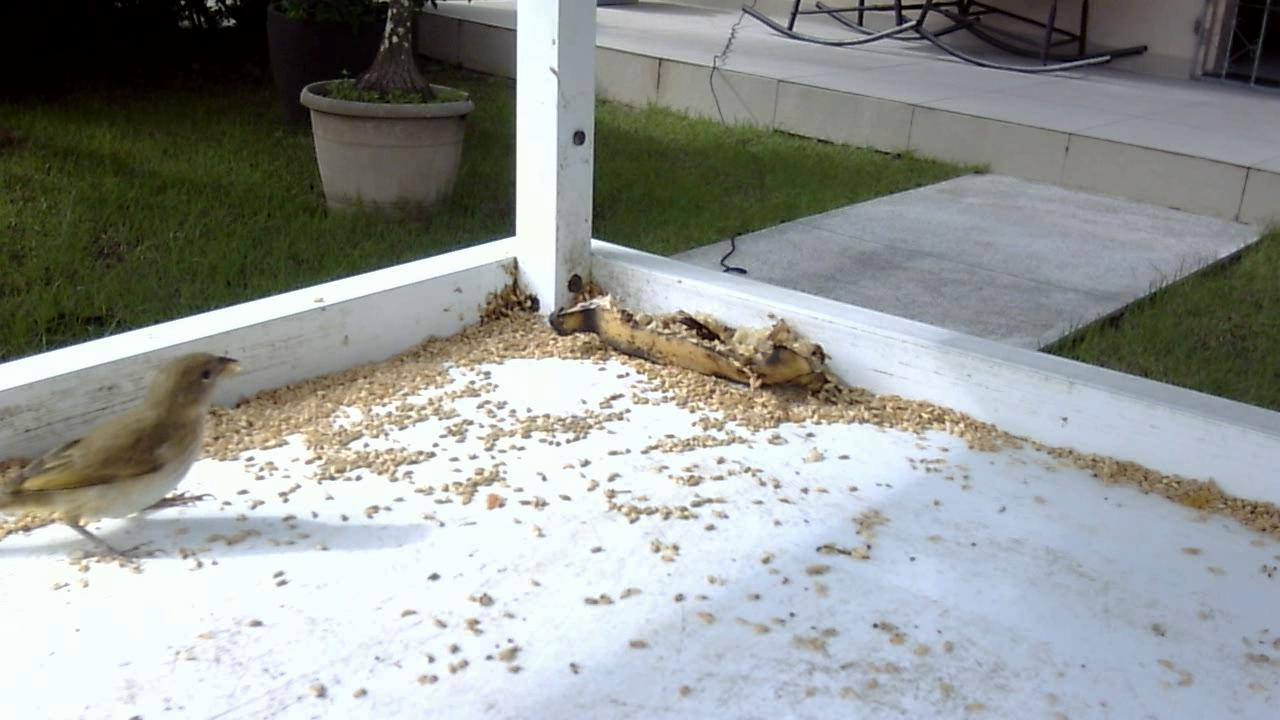canario_do_amazonas: (1, 349, 258, 571)
